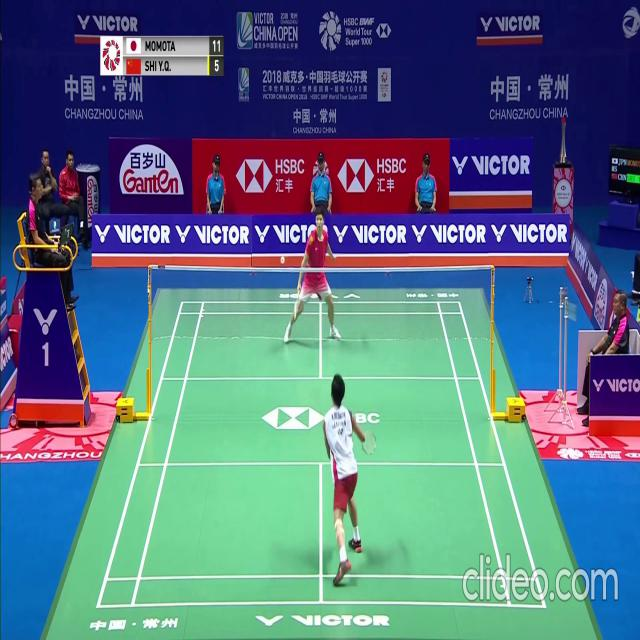Shuttlecock: (280, 256, 285, 264)
